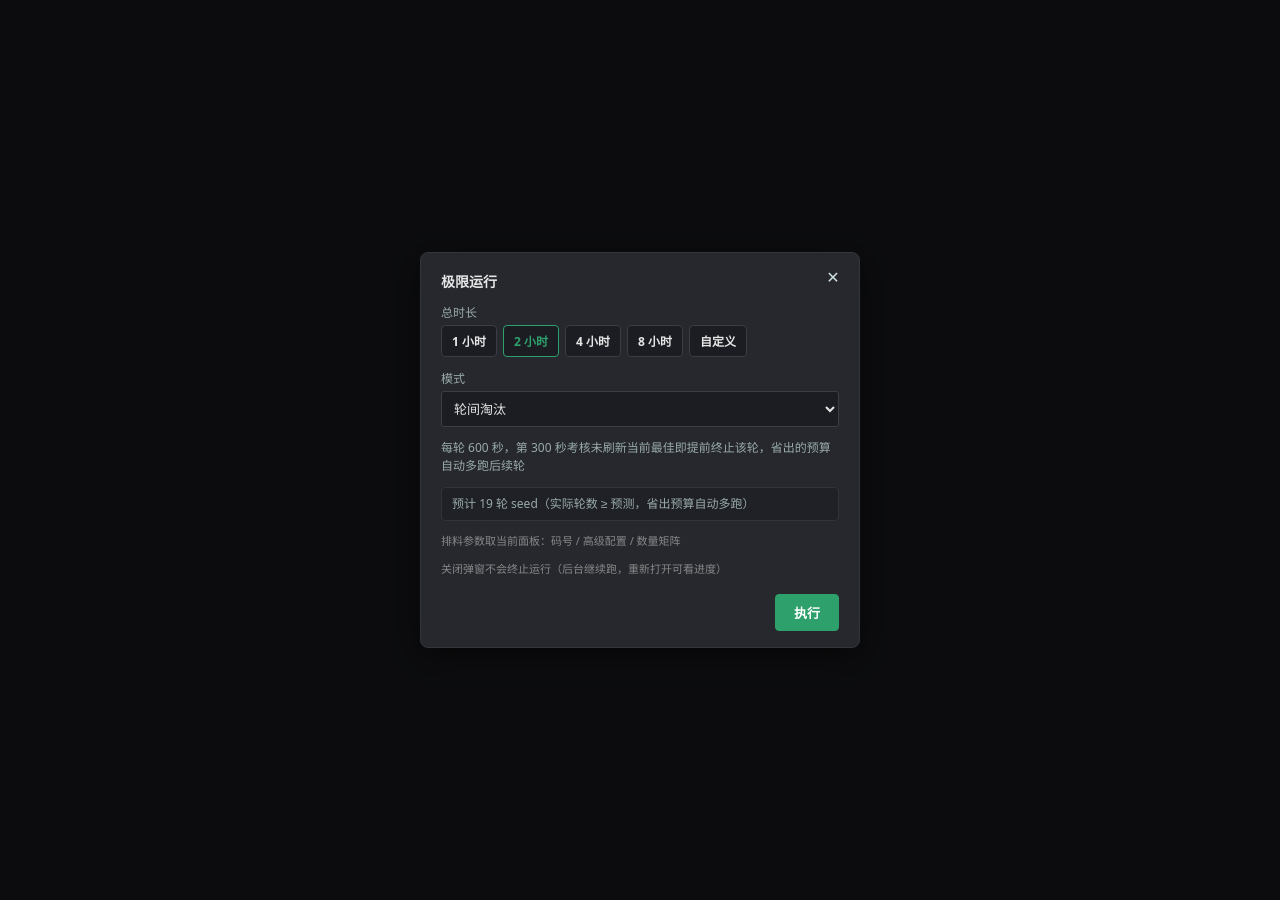
Test: ExtremeRunModal (US-003) › 预设切换 → 预计轮数实时更新（60→9 / 240→40 / 480→82）
Click the button with test id "extreme-preset-60" at coordinates (469, 341), box [441,325,497,357]
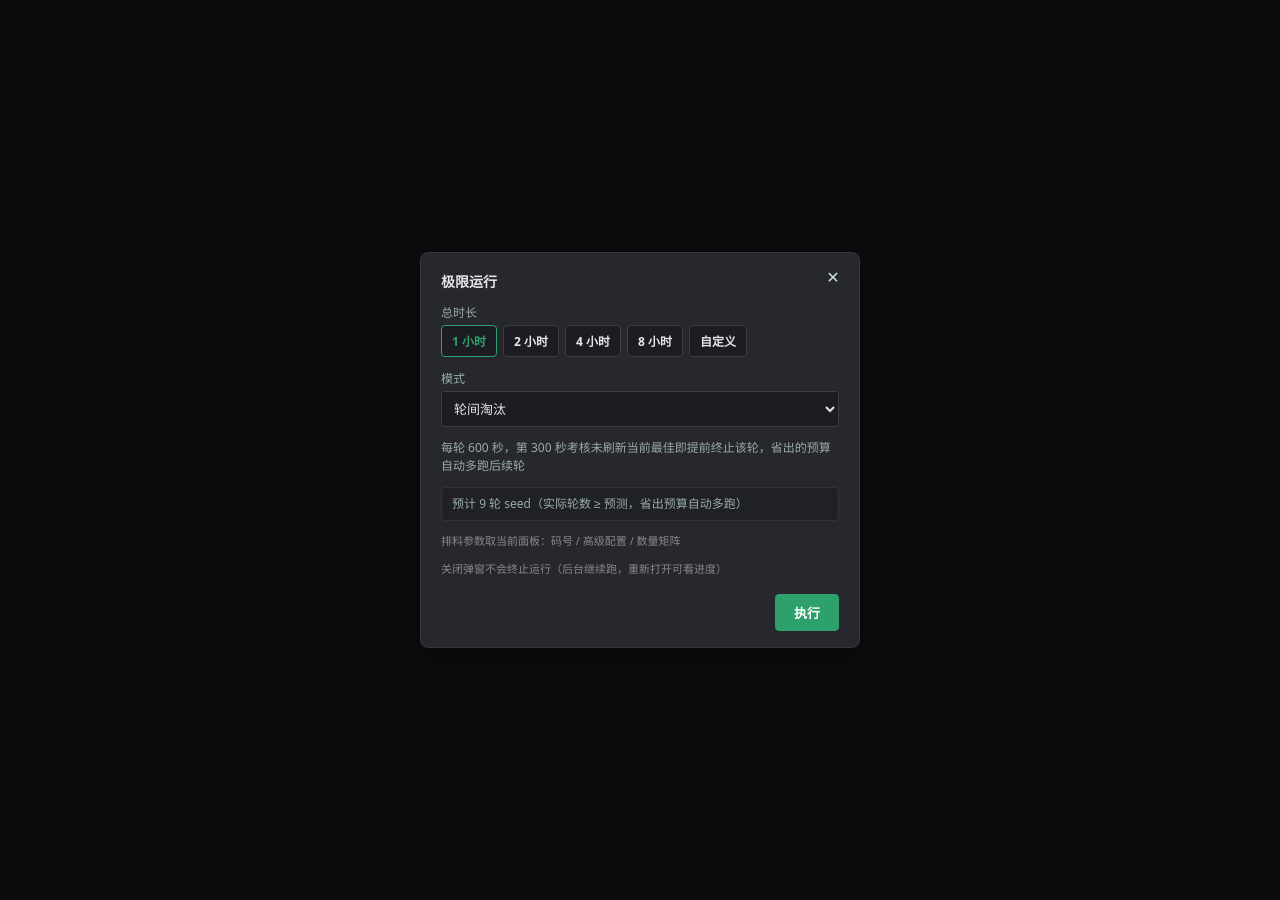
Now the text with test id "extreme-rounds" shows "预计 9 轮", box [441,487,839,521]
Click the button with test id "extreme-preset-240" at coordinates (593, 341), box [565,325,621,357]
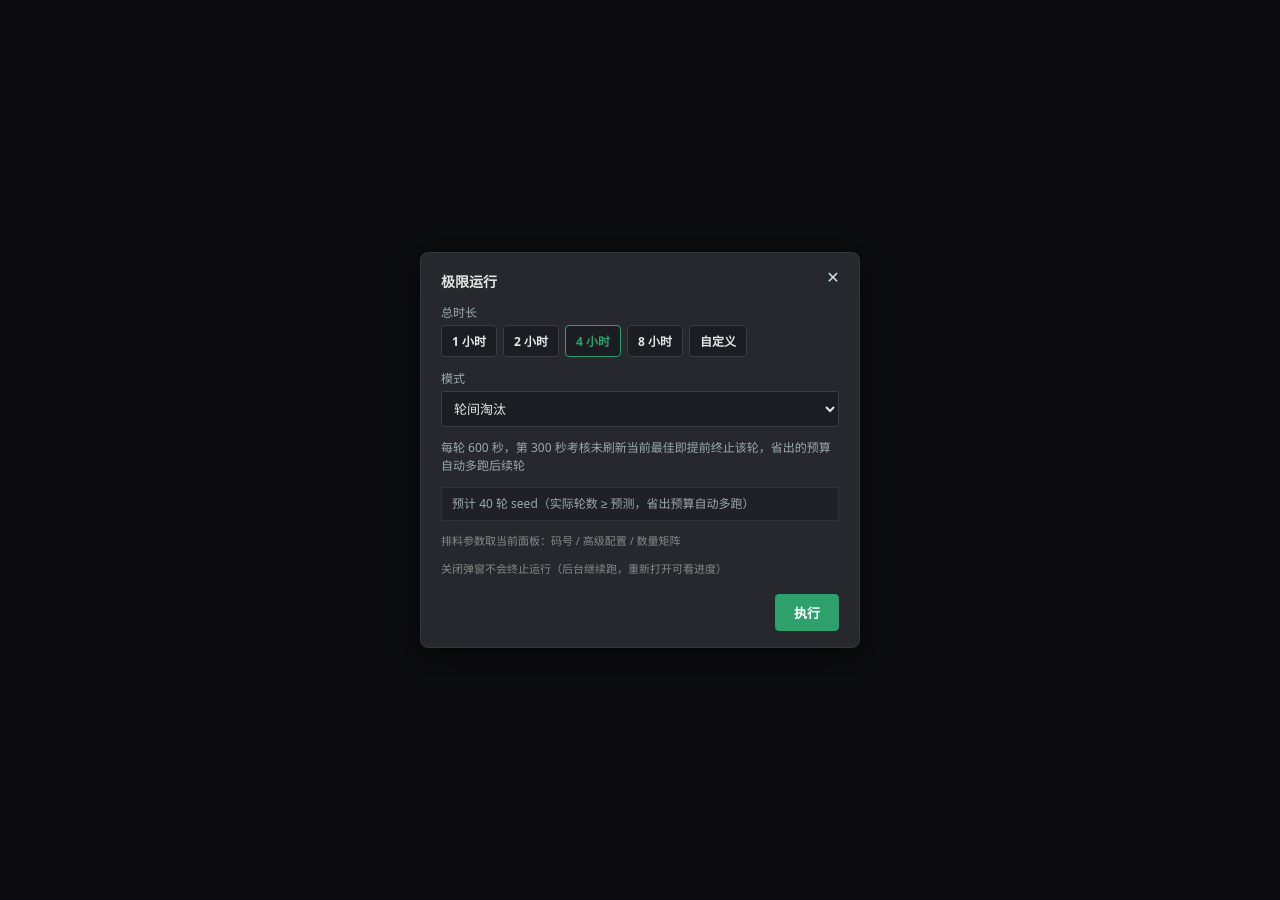
Now the text with test id "extreme-rounds" shows "预计 40 轮", box [441,487,839,521]
Click the button with test id "extreme-preset-480" at coordinates (655, 341), box [627,325,683,357]
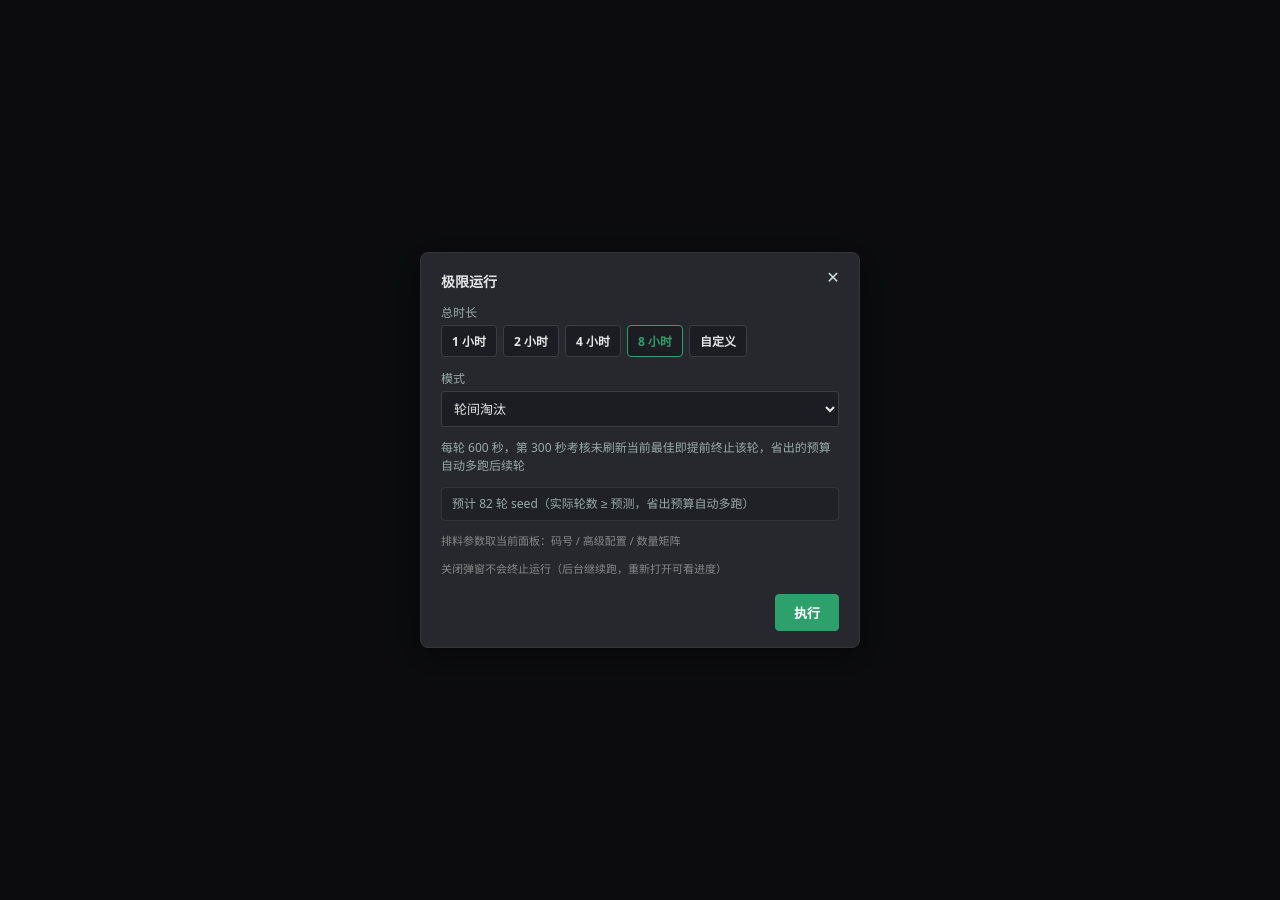
Now the text with test id "extreme-rounds" shows "预计 82 轮", box [441,487,839,521]
